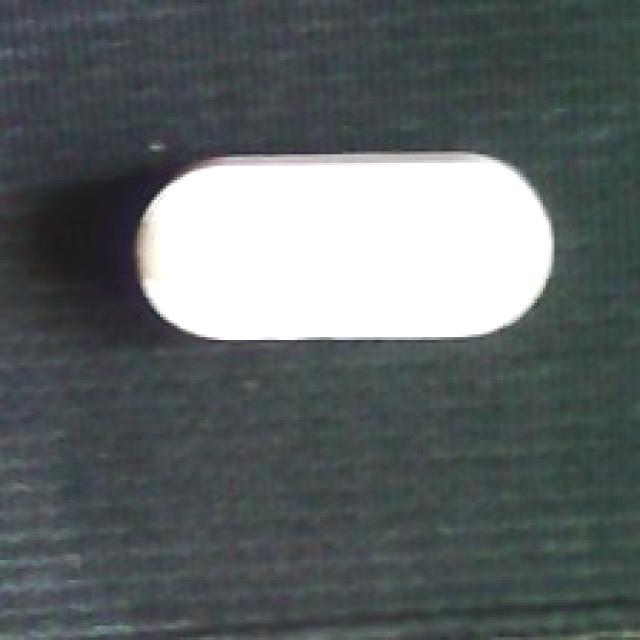no-defect: (134, 146, 560, 351)
